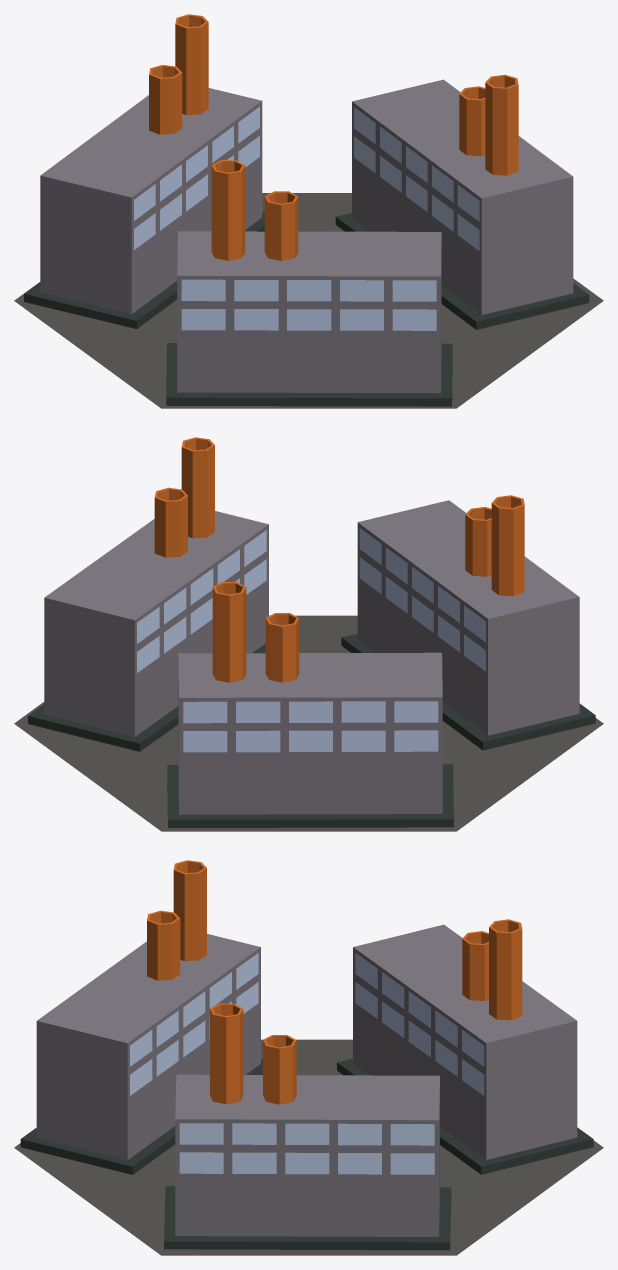
Rendered from Factory.fbx.
3 renders of one model, top to bottom at view 1: azimuth 30°, elevation 25°; view 2: azimuth 150°, elevation 25°; view 3: azimuth 270°, elevation 25°, orthographic.
Parts seen in each view (by area): view 1: Factory; view 2: Factory; view 3: Factory.
Part boxes in pixels (left/top/right/bottom): Factory: left=14, top=14, right=603, bottom=408; Factory: left=14, top=437, right=603, bottom=831; Factory: left=14, top=860, right=603, bottom=1255.
Bounding box in the file's own units: 0.7901 × 0.3701 × 0.9118.
